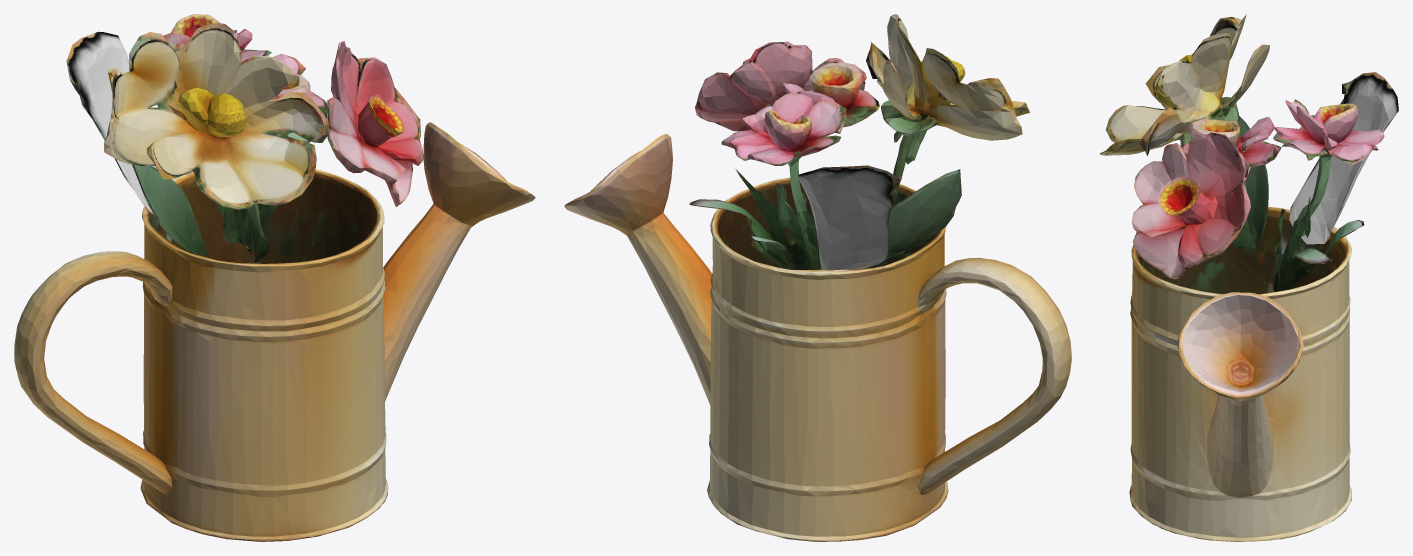
File: WaterCan.fbx
3 views of the same model, side by side, from view 1: azimuth 30°, elevation 25°; view 2: azimuth 150°, elevation 25°; view 3: azimuth 270°, elevation 25° (orthographic). The views are drawn at different scales.
Parts seen in each view (by area): view 1: geometry_0; view 2: geometry_0; view 3: geometry_0.
Part boxes in pixels (box(x1,y1,x2,y2)): geometry_0: box(14, 14, 535, 541); geometry_0: box(564, 14, 1071, 541); geometry_0: box(1100, 14, 1398, 541).
Bounding box in the file's own units: 100 × 93.93 × 58.08.
Materials: 1 (1 with a texture image).
